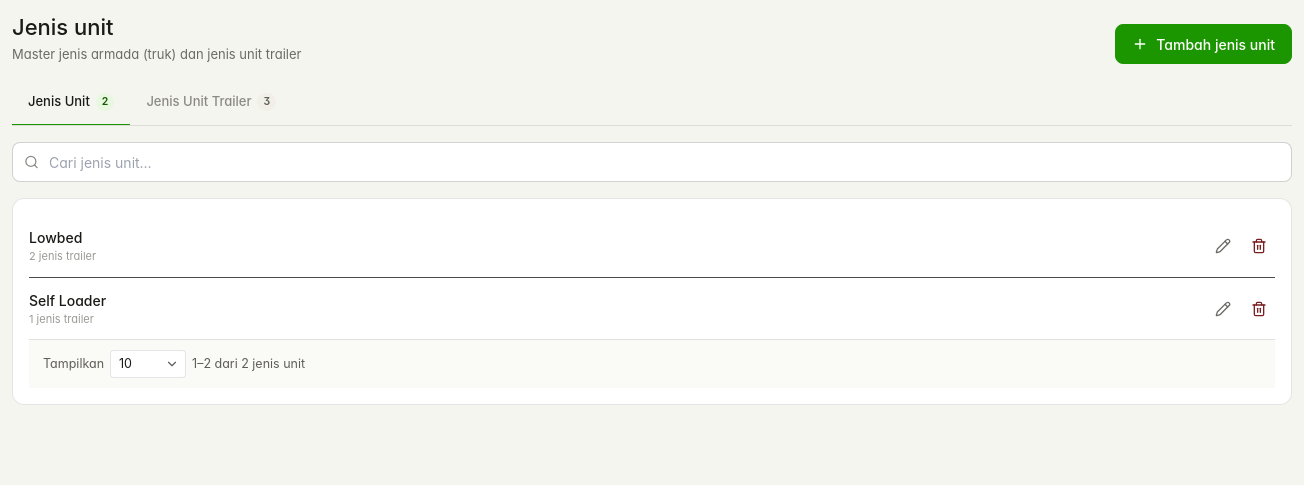
Test: JenisUnitView › tab Jenis Unit Trailer: cari nama trailer atau nama jenis unitnya
Click the button "Jenis Unit Trailer 3" at (211, 103), box [130,80,292,126]
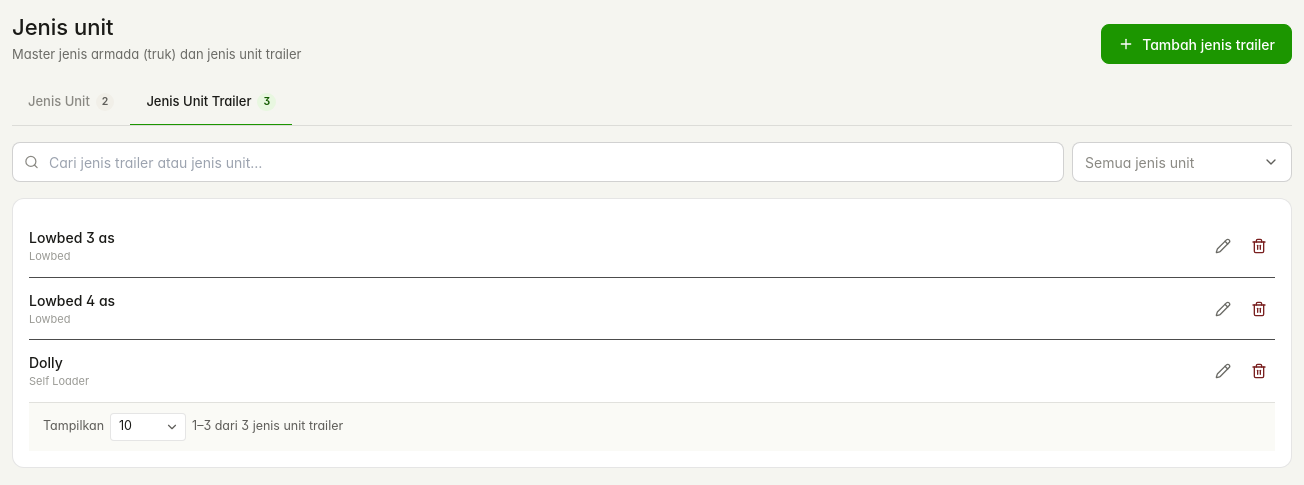
Expected: the text "Dolly" is shown, [29,354,63,371]
Type "4 as" into the field with placeholder "Cari jenis trailer atau jenis unit…" at (538, 162), box [12,142,1064,182]
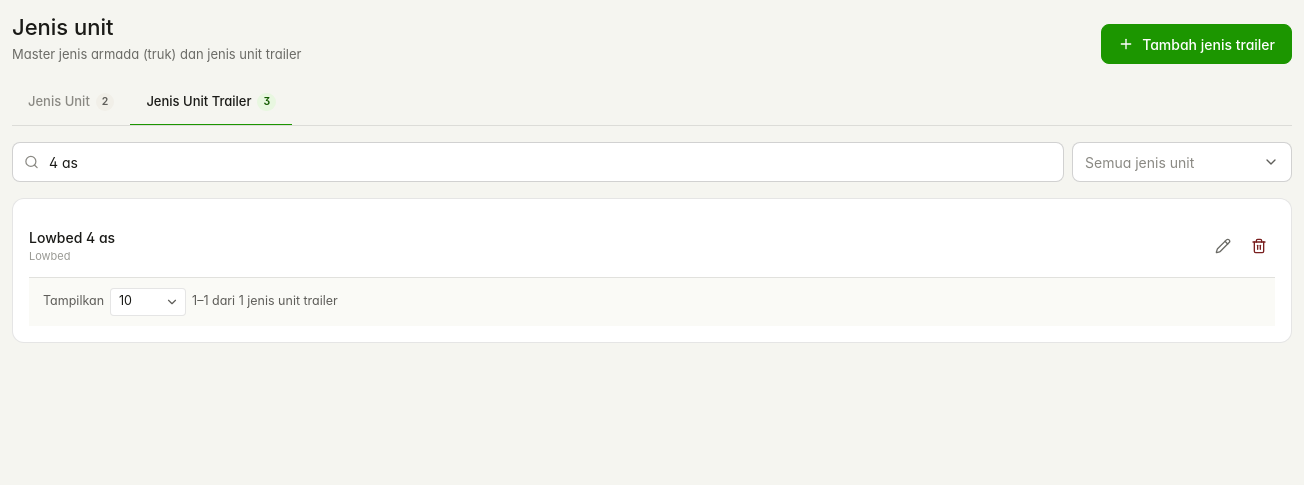
Expected: the text "Lowbed 4 as" is shown, [29,227,115,248]
Expected: the text "Lowbed 3 as" is gone
Replace the text in the field with placeholder "Cari jenis trailer atau jenis unit…" with "self" at (538, 162), box [12,142,1064,182]
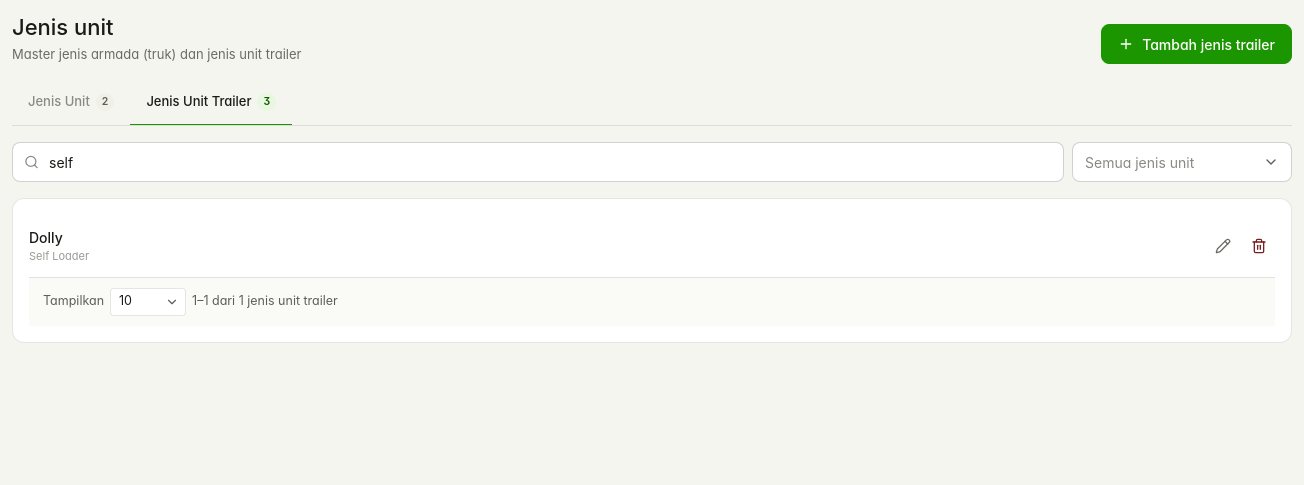
Expected: the text "Dolly" is shown, [29,229,63,246]
Expected: the text "Lowbed 4 as" is gone
